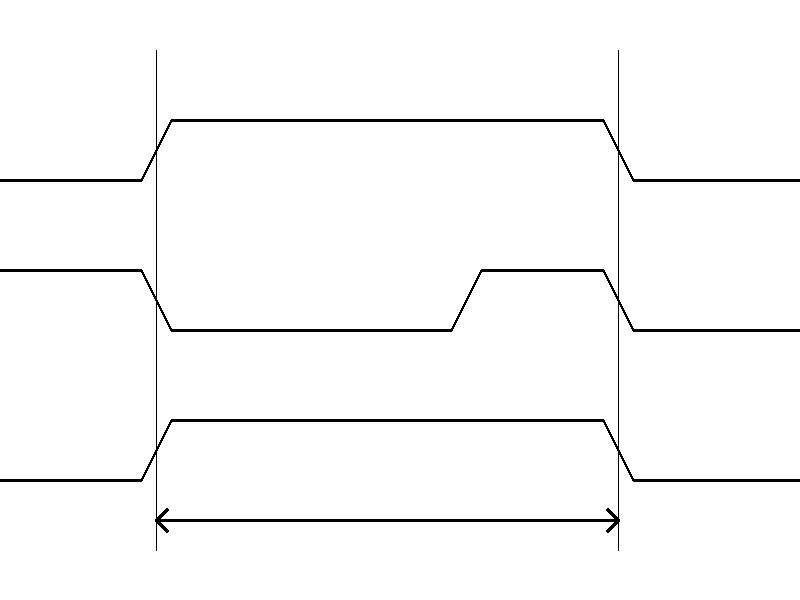double_arrow: (156, 505, 618, 535)
